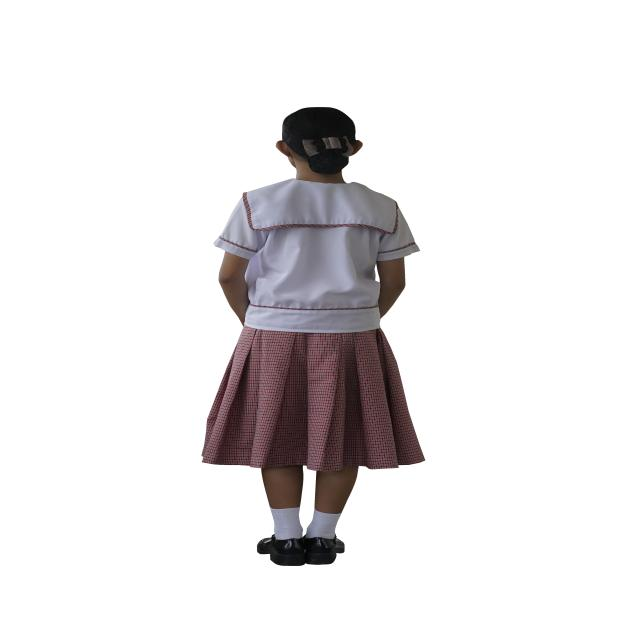pologirl: (214, 179, 419, 332)
shoes: (257, 534, 345, 566)
skirt: (202, 326, 424, 472)
